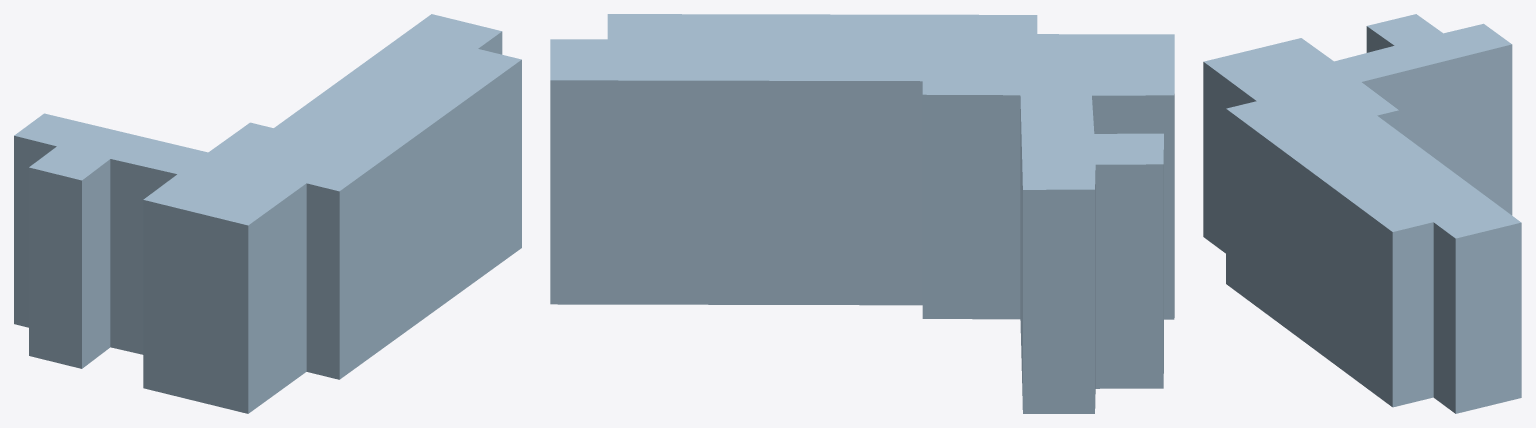
Rendered from osm_way_225242509.glb.
3 renders of one model, left to right at view 1: azimuth 30°, elevation 25°; view 2: azimuth 150°, elevation 25°; view 3: azimuth 270°, elevation 25°, orthographic. The views are drawn at different scales.
Parts seen in each view (by area): view 1: osm_way_225242509; view 2: osm_way_225242509; view 3: osm_way_225242509.
Boxes of the visible parts, bbox=[...] form: osm_way_225242509: bbox=[14, 14, 521, 413]; osm_way_225242509: bbox=[550, 14, 1174, 413]; osm_way_225242509: bbox=[1203, 14, 1521, 413].
Bounding box in the file's own units: 52.73 × 19.2 × 31.55.
